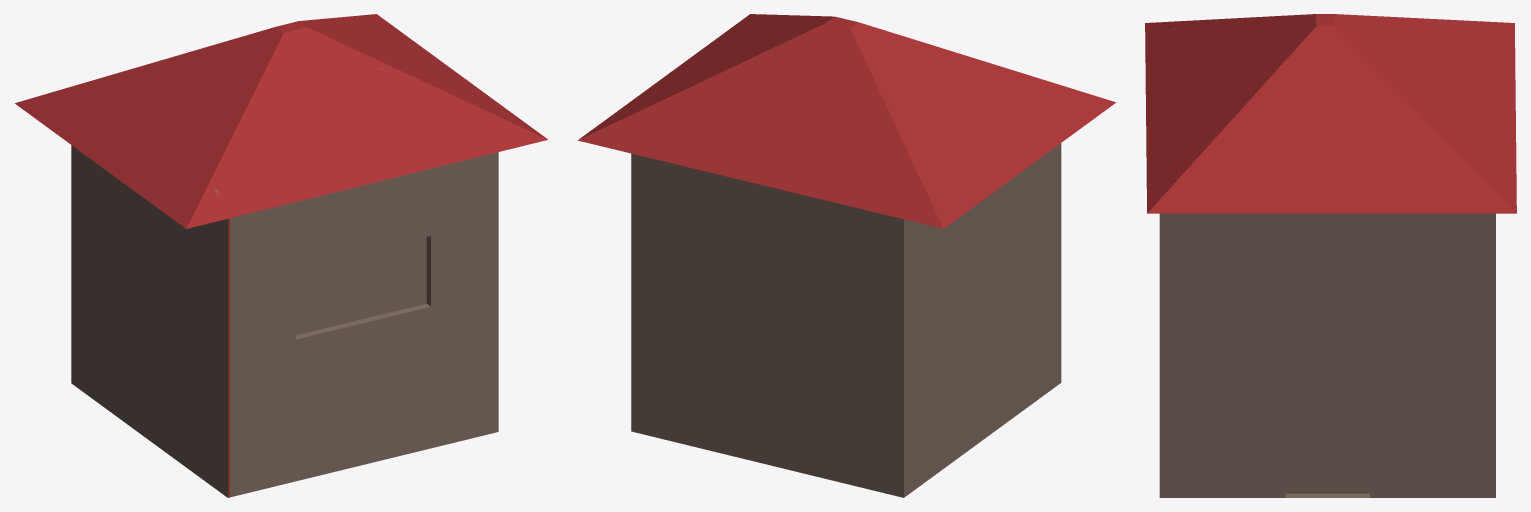
Rendered from small_house.fbx.
3 views of the same model, side by side, from view 1: azimuth 30°, elevation 25°; view 2: azimuth 150°, elevation 25°; view 3: azimuth 270°, elevation 25° (orthographic). The views are drawn at different scales.
Parts seen in each view (by area): view 1: Kocka; view 2: Kocka; view 3: Kocka.
Boxes of the visible parts, <box> form: Kocka: <box>15,14,547,497</box>; Kocka: <box>577,14,1115,497</box>; Kocka: <box>1145,14,1516,497</box>.
Size of the model in its own units: 2317 by 2318 by 1909.
Materials: 1 (1 with a texture image).
